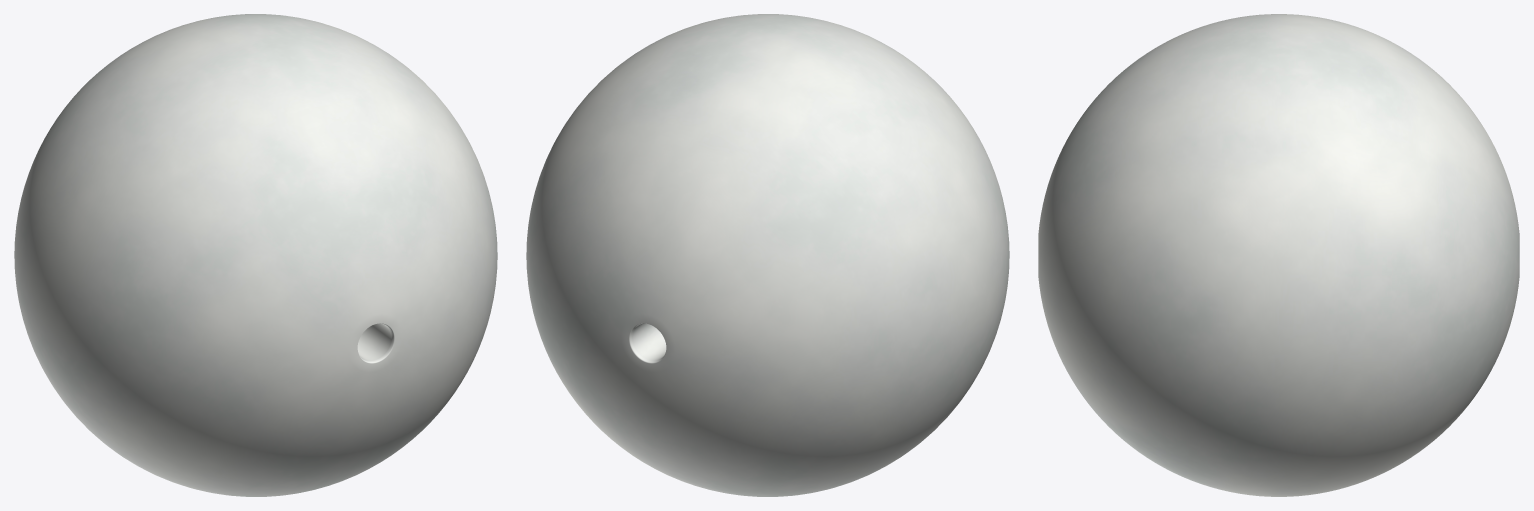
Rendered from milky-quartz-12mm.glb.
3 views of the same model, side by side, from view 1: azimuth 30°, elevation 25°; view 2: azimuth 150°, elevation 25°; view 3: azimuth 270°, elevation 25° (orthographic).
Visible parts, largest first — view 1: milky-quartz.001; view 2: milky-quartz.001; view 3: milky-quartz.001.
Boxes of the visible parts, x1,y1,x2,y2 form: milky-quartz.001: (14, 14, 497, 496); milky-quartz.001: (526, 14, 1009, 496); milky-quartz.001: (1038, 14, 1519, 496).
Bounding box in the file's own units: 0.012 × 0.012 × 0.012.
Materials: 2 (1 with a texture image).
